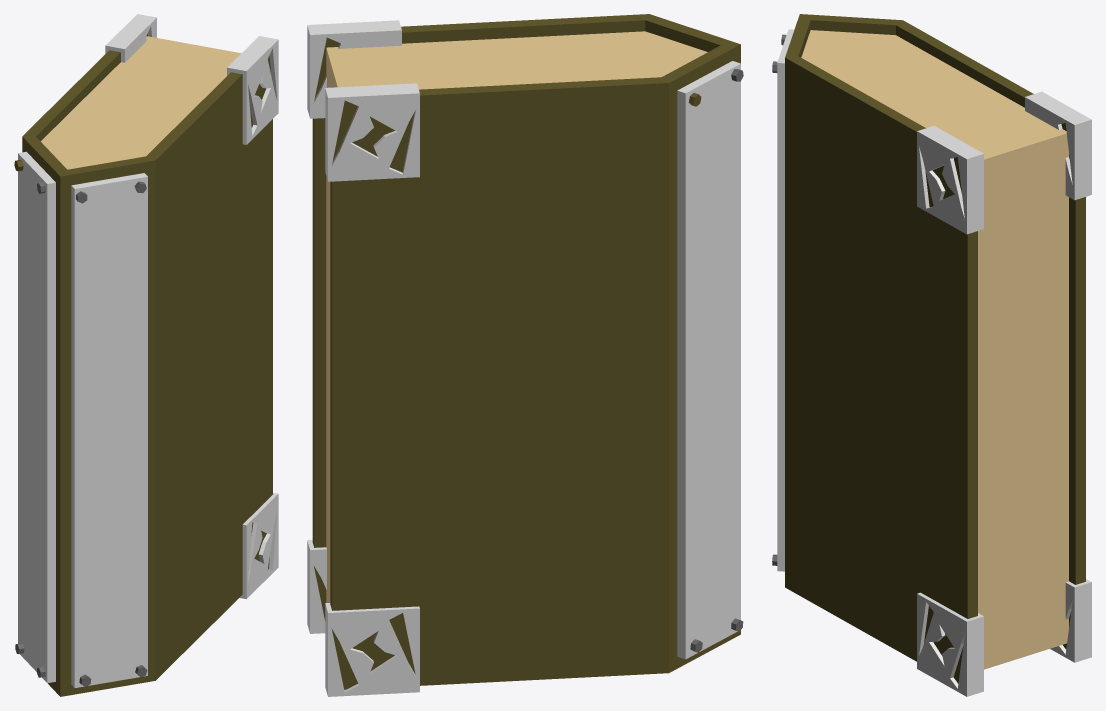
The model's file is obj_Book_15.fbx.
3 views of the same model, side by side, from view 1: azimuth 30°, elevation 25°; view 2: azimuth 150°, elevation 25°; view 3: azimuth 270°, elevation 25° (orthographic). The views are drawn at different scales.
Visible parts, largest first — view 1: Book_15, Book_EdgePattern.024; view 2: Book_15, Book_EdgePattern.024; view 3: Book_15, Book_EdgePattern.024.
Boxes of the visible parts, x1,y1,x2,y2 form: Book_15: (14,33,272,696); Book_EdgePattern.024: (105,14,278,599); Book_15: (312,14,743,689); Book_EdgePattern.024: (307,20,419,696); Book_15: (772,14,1085,683); Book_EdgePattern.024: (917,91,1091,696).
Size of the model in its own units: 0.227 by 0.3681 by 0.1984.
